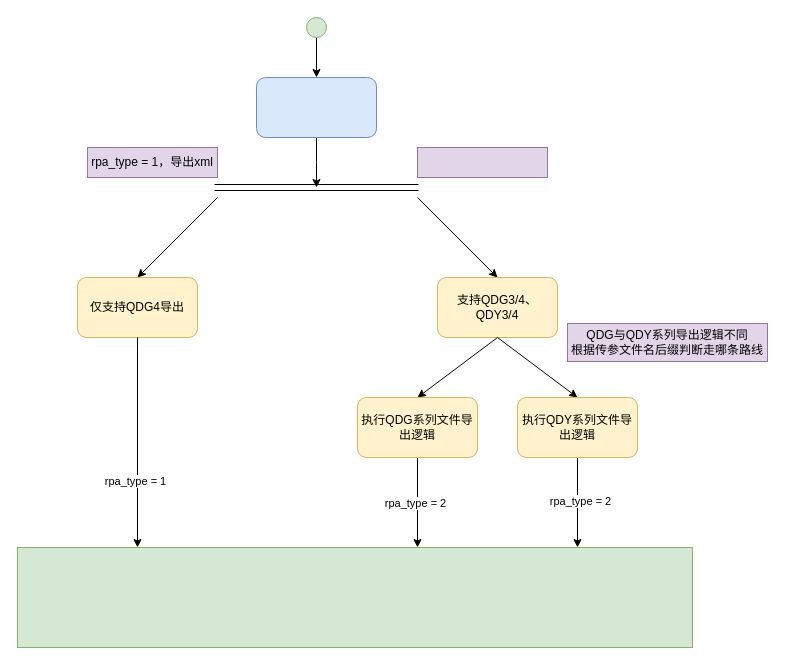
Image size: 785x665. Some labels were removed from this diagram. Each missing label, with the box of its shape:
rpa_type = 2，导出swt: (416, 146, 548, 178)
rpa导出程序: (256, 76, 376, 138)
平台端根据rpa_type不同，调用不同的解析方法(xml、swt): (16, 546, 692, 648)
